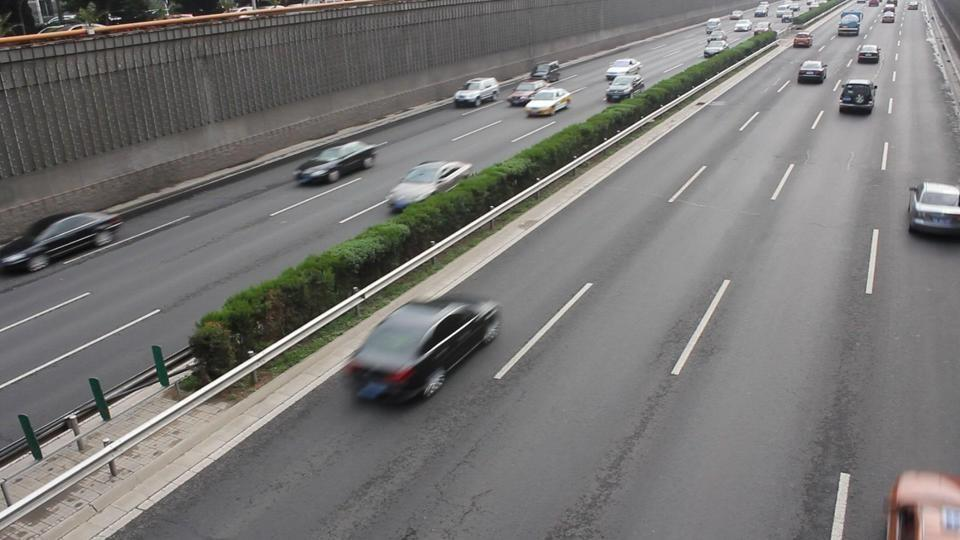car: (343, 297, 503, 406), (0, 210, 124, 274), (386, 159, 474, 216), (291, 140, 381, 186), (907, 180, 960, 237), (453, 77, 500, 108), (836, 79, 876, 115), (526, 88, 573, 118), (605, 73, 644, 102), (508, 79, 547, 107), (604, 57, 642, 83), (797, 59, 827, 84), (529, 61, 560, 82), (836, 12, 861, 35), (703, 36, 730, 57), (856, 43, 881, 64), (792, 32, 813, 48), (732, 18, 753, 33), (880, 6, 895, 23)
